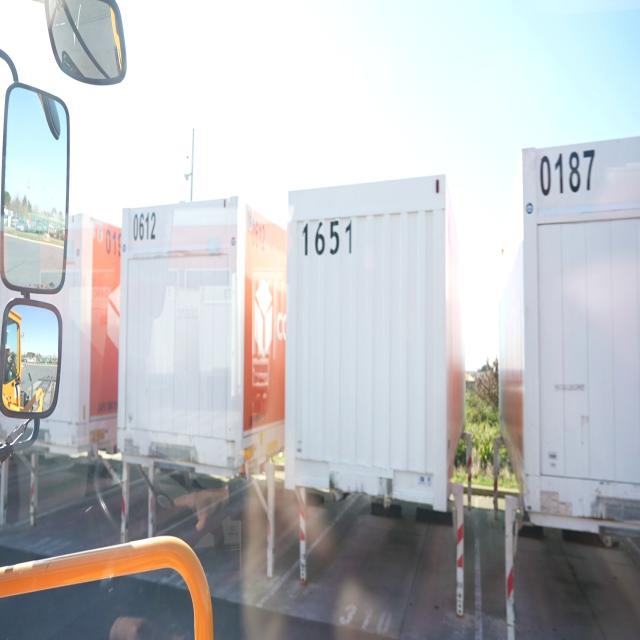Code: (297, 214, 359, 264), (540, 144, 596, 197), (130, 205, 162, 246)
